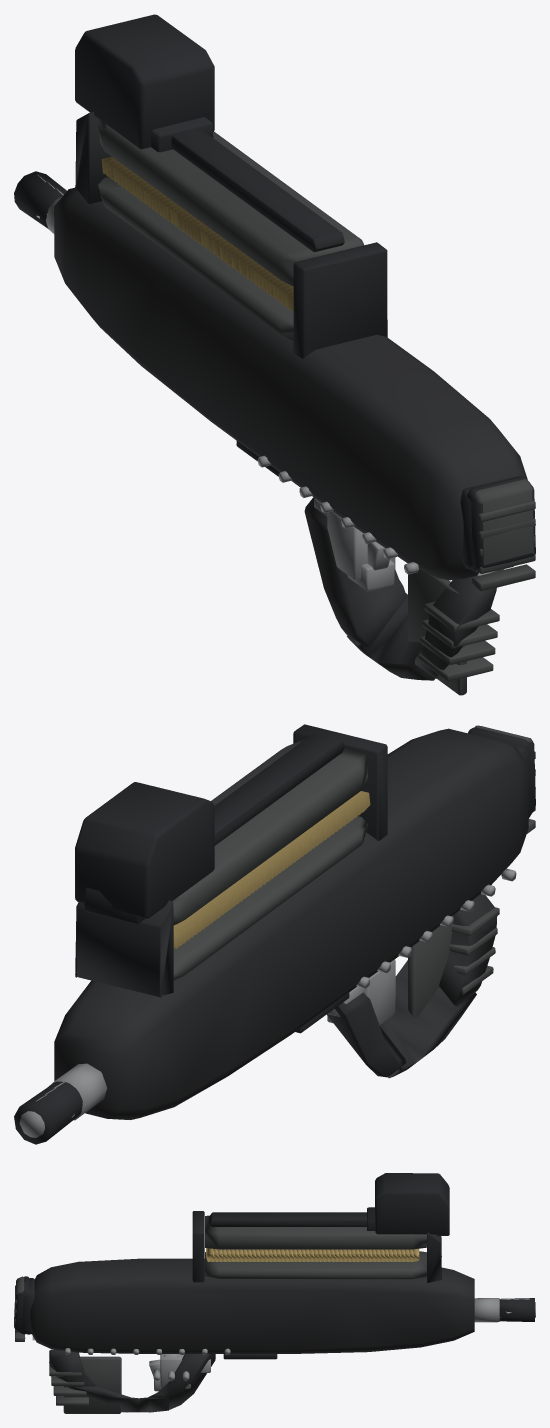
3 views of the same model, one above another, from view 1: azimuth 30°, elevation 25°; view 2: azimuth 150°, elevation 25°; view 3: azimuth 270°, elevation 25° (orthographic). The views are drawn at different scales.
Parts seen in each view (by area): view 1: GripBottom_Batched, Barrel_Batched, MagazineTop, MagazineRearCap, ButtPad_Batched, MagazineBottom, MagazineRail, MagazineFrontCap, TriggerBody, StockBody, BarrelNut_Batched, StockRib4 (+1 smaller); view 2: GripBottom_Batched, Barrel_Batched, MagazineTop, MagazineFrontCap, MagazineBottom, MagazineRail, ButtPad_Batched, BarrelNut_Batched, MagazineRearCap, TriggerBody, StockBody; view 3: GripBottom_Batched, Barrel_Batched, MagazineTop, MagazineBottom, ButtPad_Batched, MagazineRail, BarrelNut_Batched, MagazineRearCap, MagazineFrontCap, TriggerBody, StockBody.
Part boxes in pixels (x1,y1,x2,y2): GripBottom_Batched: (54,187,527,680); Barrel_Batched: (14,14,520,569); MagazineTop: (98,119,363,286); MagazineRearCap: (293,242,387,358); ButtPad_Batched: (407,479,534,695); MagazineBottom: (98,177,293,340); MagazineRail: (171,129,344,252); MagazineFrontCap: (75,111,111,204); TriggerBody: (327,511,395,580); StockBody: (467,476,535,572); BarrelNut_Batched: (36,174,418,574); StockRib4: (472,564,535,591); GripBottom_Batched: (54,728,528,1119); Barrel_Batched: (14,744,531,1144); MagazineTop: (173,738,367,925); MagazineFrontCap: (75,900,173,997); MagazineBottom: (173,816,368,980); MagazineRail: (214,733,344,845); ButtPad_Batched: (408,725,532,1017); BarrelNut_Batched: (19,868,516,1137); MagazineRearCap: (293,724,387,840); TriggerBody: (327,959,395,1023); StockBody: (468,727,535,818); GripBottom_Batched: (30,1258,474,1412); Barrel_Batched: (22,1173,534,1359); MagazineTop: (205,1215,426,1249); MagazineBottom: (205,1251,426,1279); ButtPad_Batched: (14,1276,121,1413); MagazineRail: (209,1212,366,1226); BarrelNut_Batched: (65,1298,535,1354); MagazineRearCap: (192,1211,204,1282); MagazineFrontCap: (427,1232,441,1283); TriggerBody: (160,1354,190,1388); StockBody: (14,1276,29,1334).
Size of the model in its own units: 0.0652 by 0.2511 by 0.5028.
